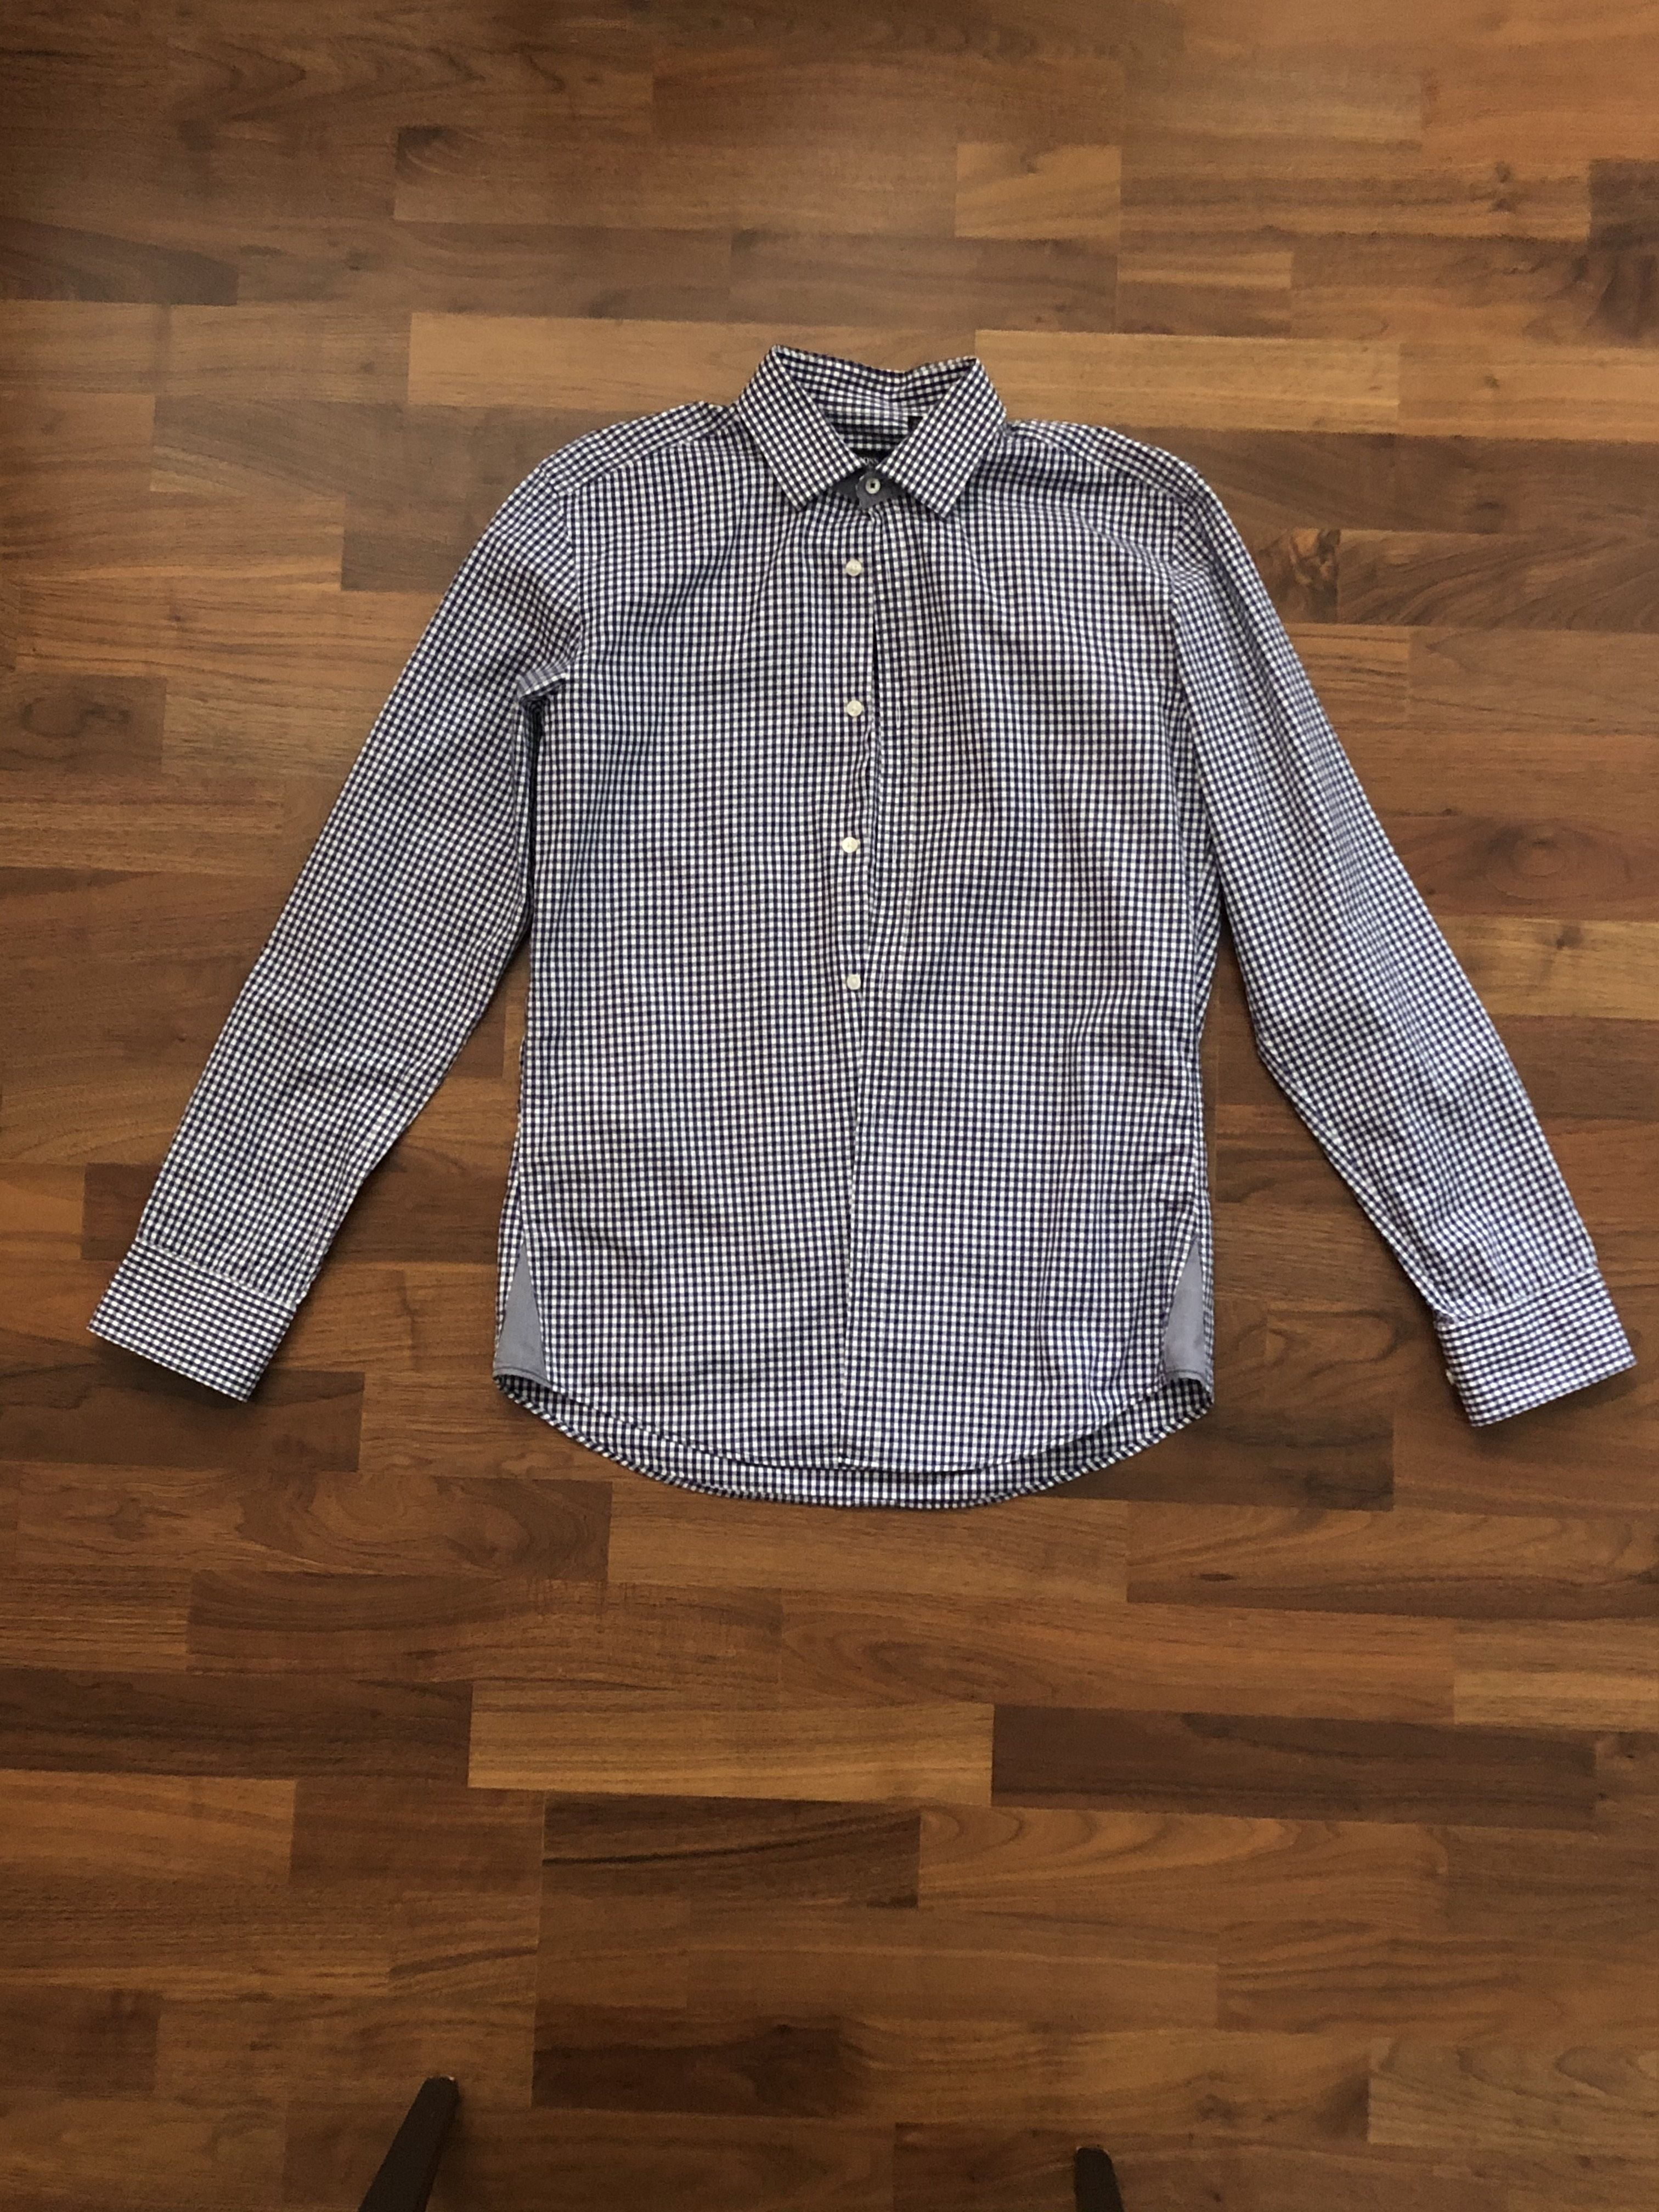clothes: (94, 345, 1652, 1491)
